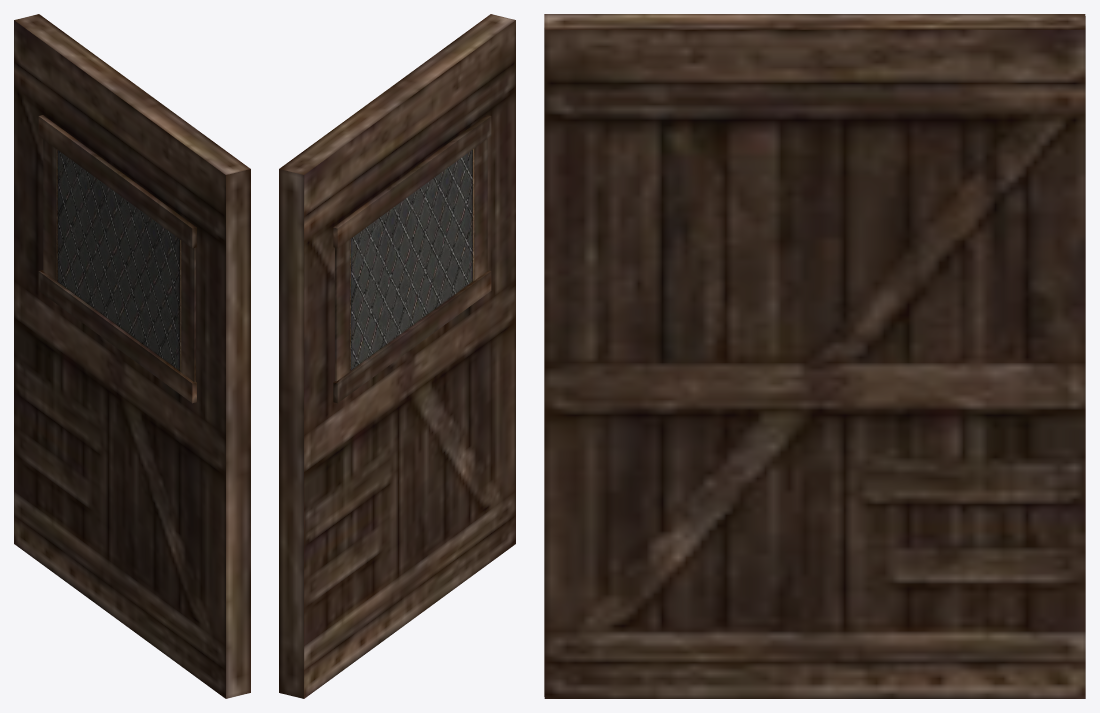
The model's file is o_mdl_env_dungeonCastleDoorA-transformed.glb.
3 views of the same model, side by side, from view 1: azimuth 30°, elevation 25°; view 2: azimuth 150°, elevation 25°; view 3: azimuth 270°, elevation 25° (orthographic). The views are drawn at different scales.
Visible parts, largest first — view 1: default; view 2: default; view 3: default.
Part boxes in pixels (x1,y1,x2,y2): default: [14, 14, 250, 698]; default: [279, 14, 515, 698]; default: [544, 14, 1085, 698].
Size of the model in its own units: 0.1102 by 1.87 by 1.37.
Materials: 2 (2 with a texture image).
